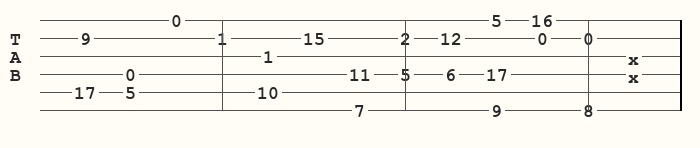0: (125, 66, 140, 82), (171, 12, 186, 28), (537, 30, 552, 46), (583, 30, 598, 46)
1: (217, 30, 232, 46), (263, 48, 278, 64)
10: (257, 84, 283, 100)
11: (349, 66, 375, 82)
12: (440, 30, 466, 46)
15: (303, 30, 329, 46)
16: (531, 12, 557, 28)
17: (74, 84, 100, 100), (486, 66, 512, 82)
2: (400, 30, 415, 46)
5: (125, 84, 140, 100), (400, 66, 415, 82), (491, 12, 506, 28)
6: (445, 66, 460, 82)
7: (354, 102, 369, 118)
8: (583, 102, 598, 118)
9: (80, 30, 95, 46), (491, 102, 506, 118)
x: (628, 68, 643, 80), (628, 50, 643, 62)
